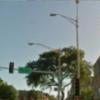traffic lights: (9, 62, 14, 73)
